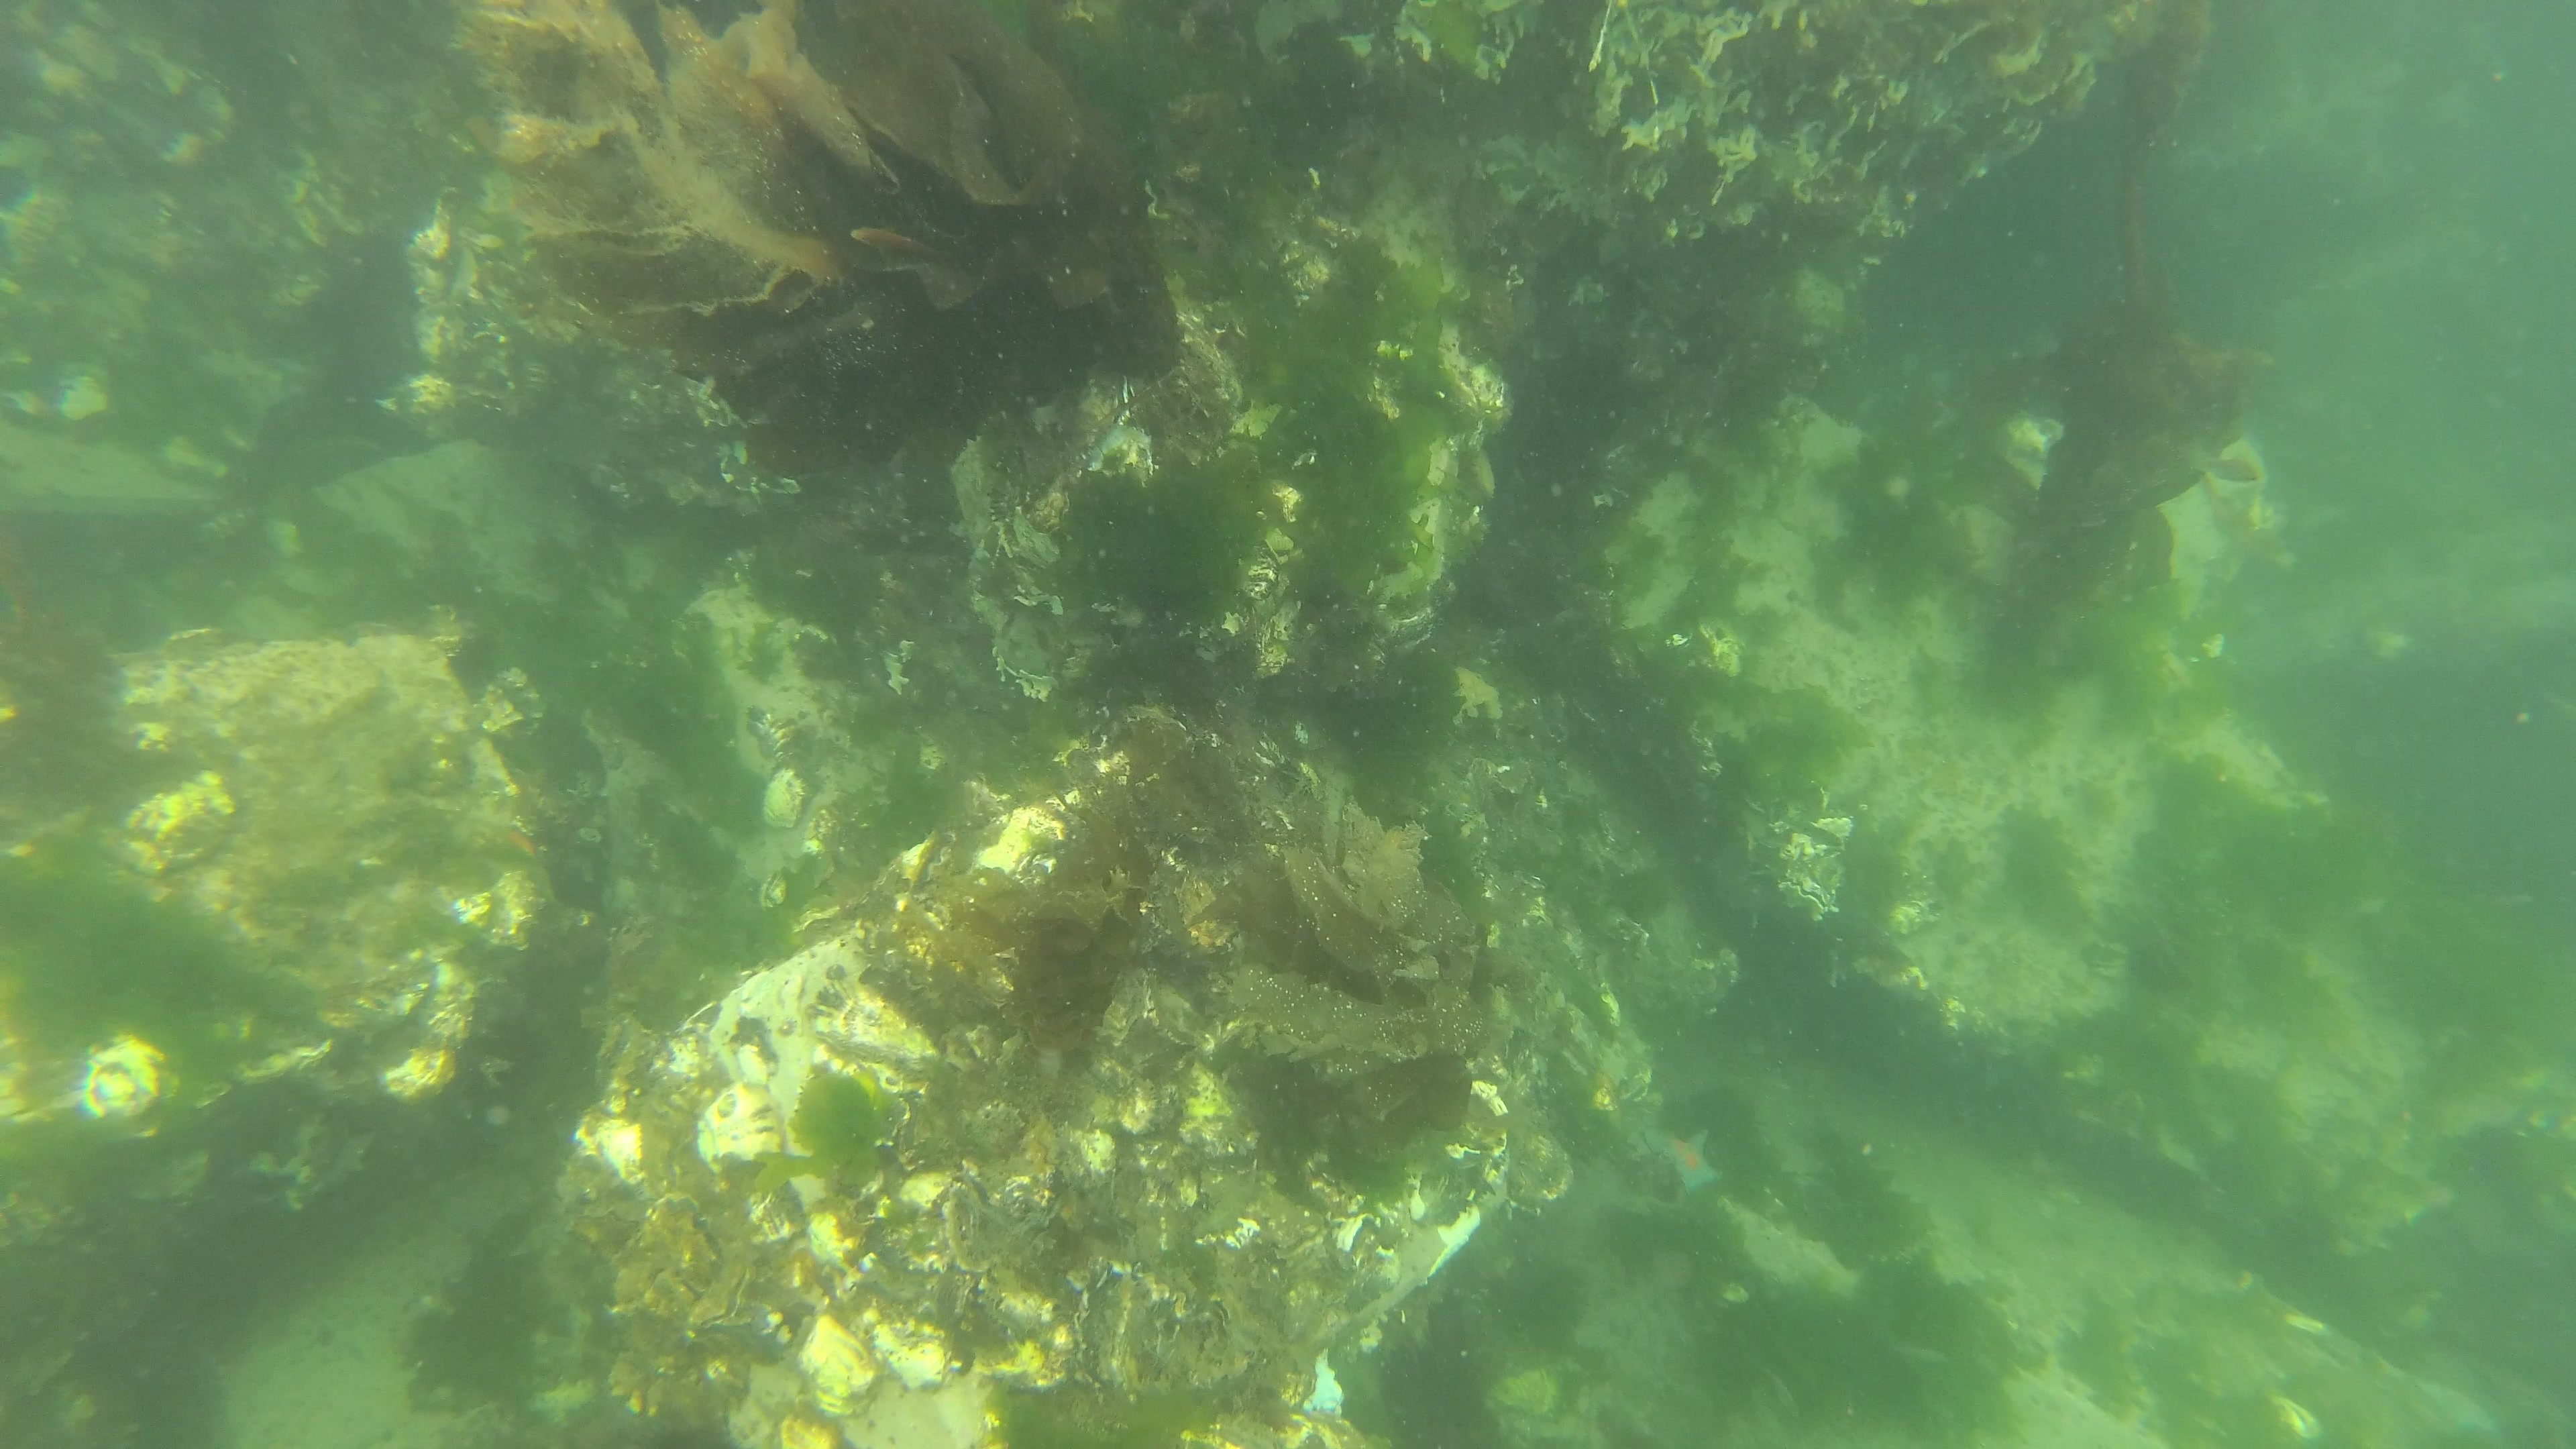starfish: (1638, 1118, 1729, 1200), (2410, 1373, 2503, 1438)
